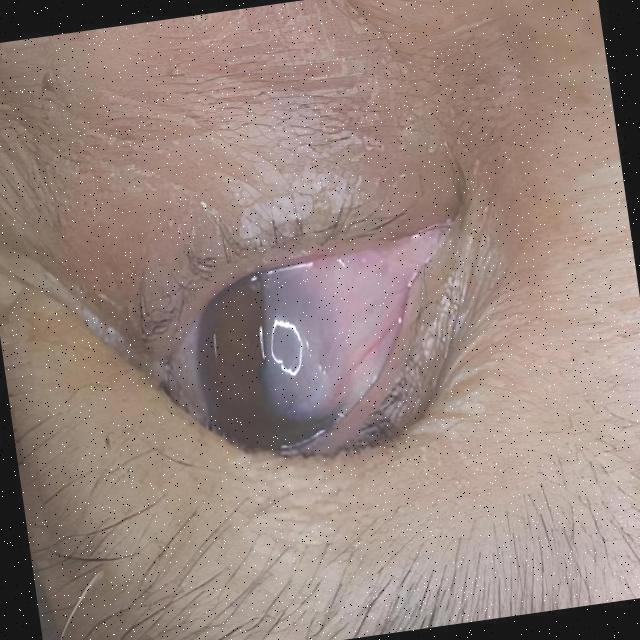Pterygium: (232, 242, 426, 424)
